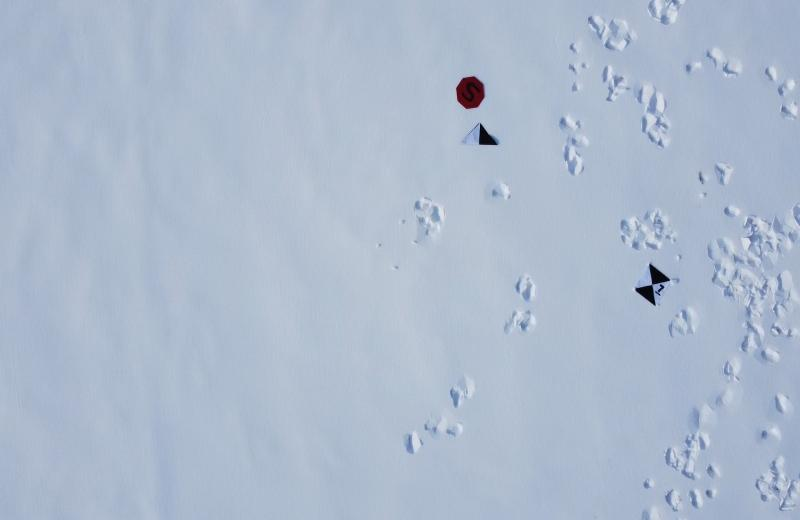Octagon: (455, 76, 487, 112)
